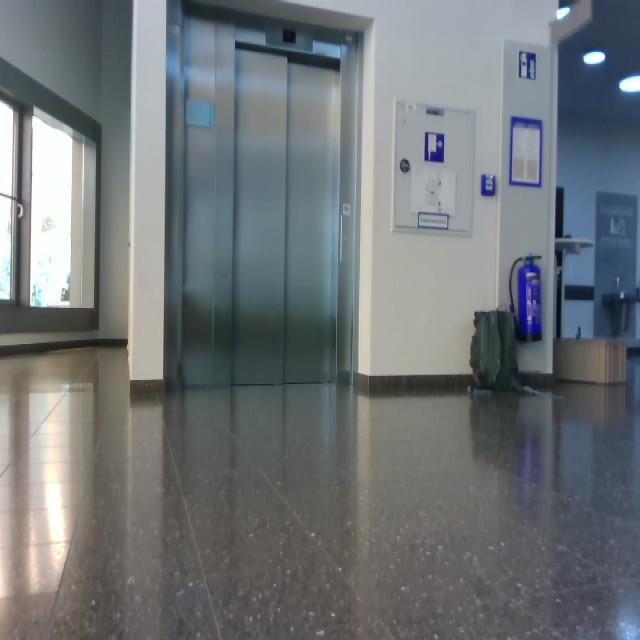door: (167, 8, 362, 390), (233, 43, 341, 387)
fire extinguisher: (509, 253, 543, 342)
light bulb: (556, 1, 579, 21), (619, 75, 640, 95), (583, 51, 606, 67), (556, 5, 571, 20)
tiled floor: (2, 352, 639, 638)
